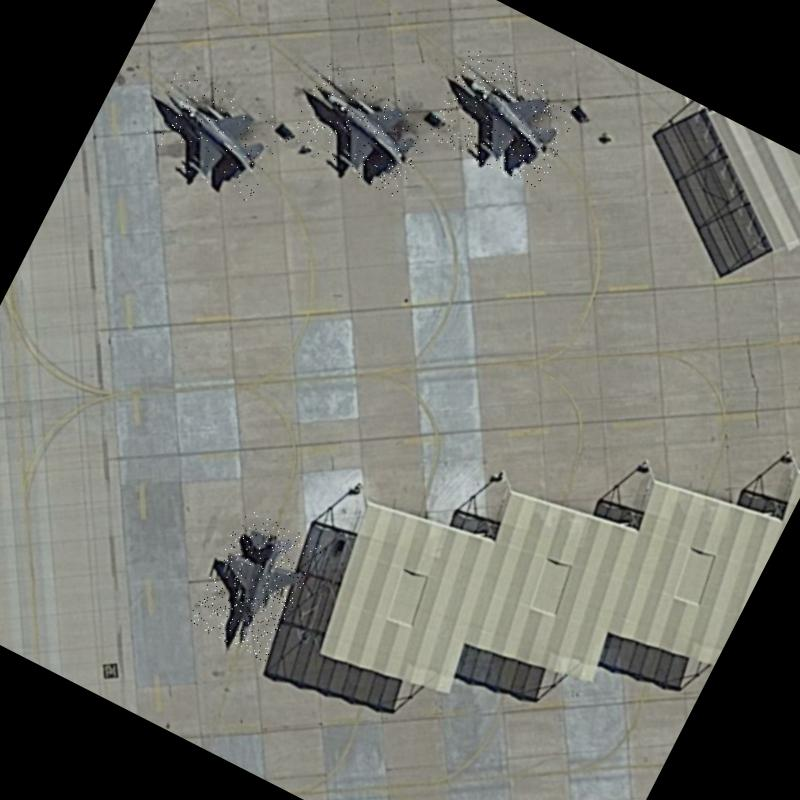A5: (426, 46, 582, 192), (186, 505, 324, 662), (284, 61, 438, 200), (137, 67, 289, 204)
